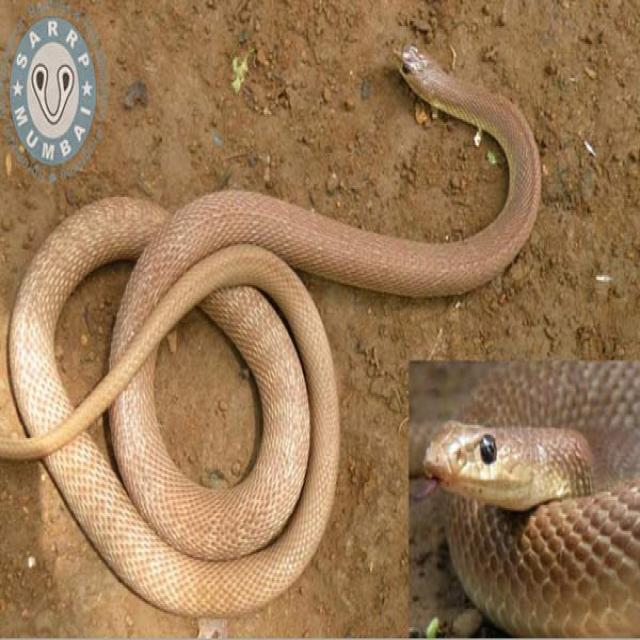Snake: (0, 40, 542, 618), (421, 356, 639, 636)
